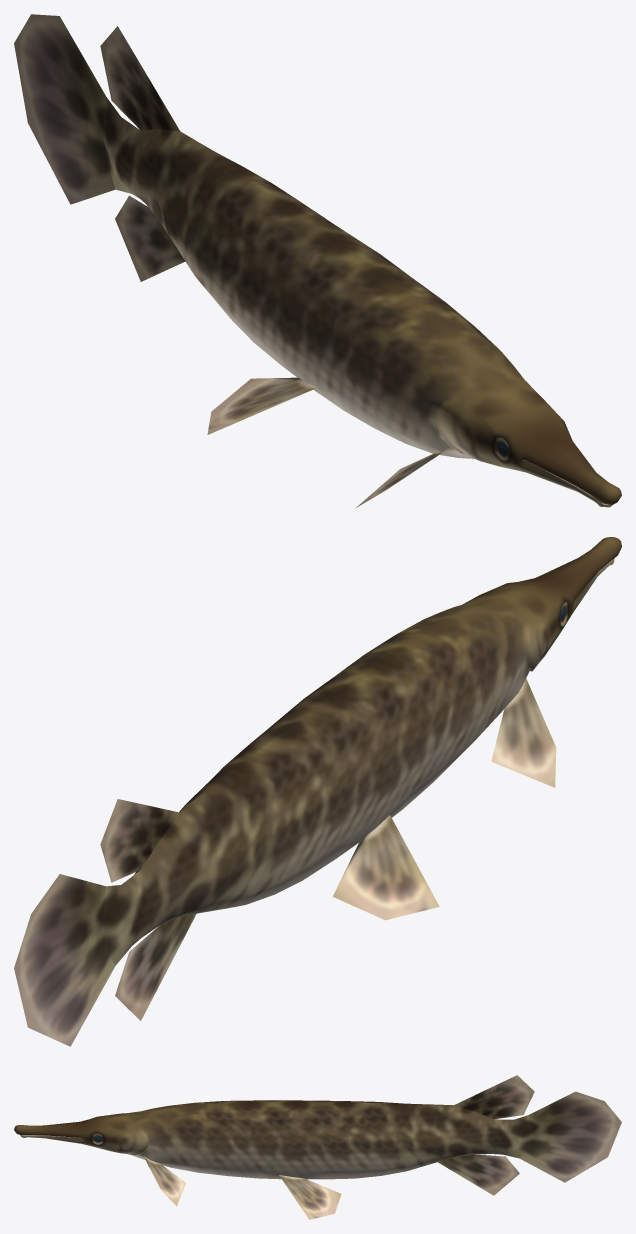
Rendered from gar.glb.
The picture shows the model from 3 angles, top to bottom: view 1: azimuth 30°, elevation 25°; view 2: azimuth 150°, elevation 25°; view 3: azimuth 270°, elevation 25°; orthographic projection. The views are drawn at different scales.
Visible parts, largest first — view 1: FishGa__mGa; view 2: FishGa__mGa; view 3: FishGa__mGa.
Boxes of the visible parts, <box> form: FishGa__mGa: <box>14,14,621,508</box>; FishGa__mGa: <box>14,537,621,1046</box>; FishGa__mGa: <box>14,1075,621,1219</box>.
Bounding box in the file's own units: 3.63 × 3.57 × 16.3.
1 material, 1 textured.
